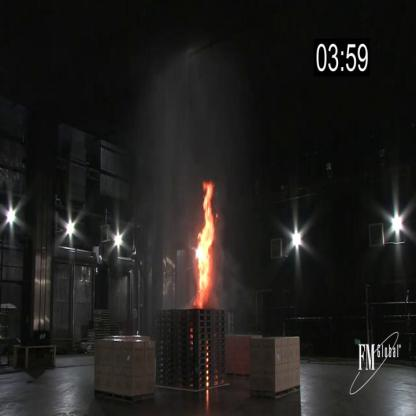fire: (193, 175, 218, 312)
